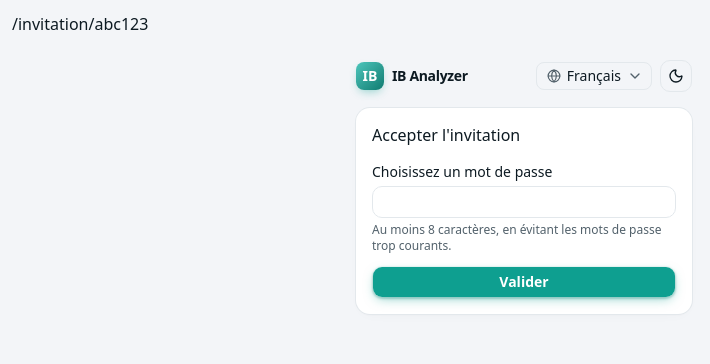
Scenario: InvitationPage › shows the invalid-invitation message for a bad token
The image size is (710, 364).
Type "correct-horse-battery" into the password field labelled "Choisissez un mot de passe" at (524, 202), box [372,186,676,218]
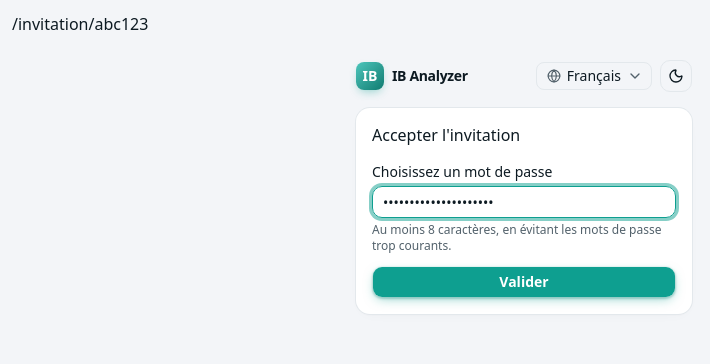
Click the button "Valider" at (524, 282), box [372,266,676,298]
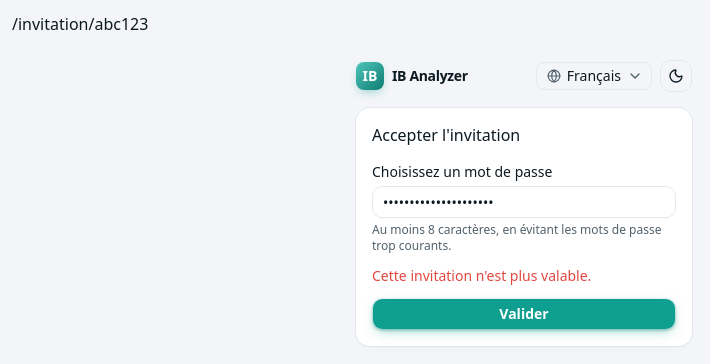
Expected: the message reads "Cette invitation n'est plus valable.", [372,266,591,285]
